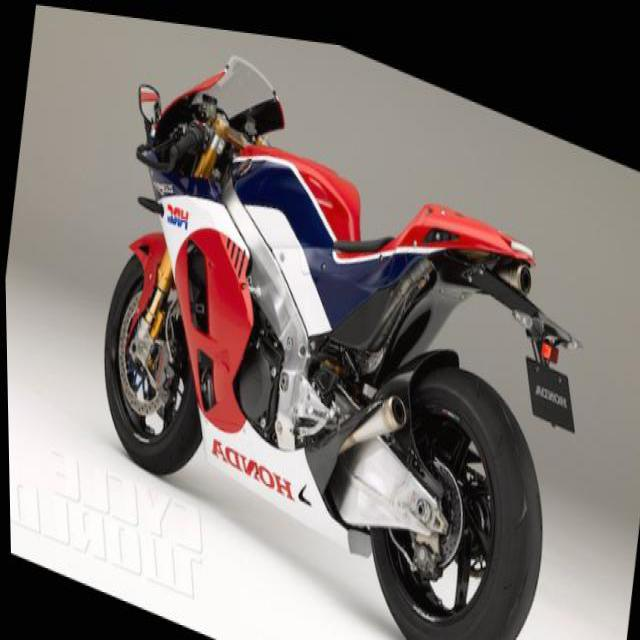HRC RCV 213: (73, 7, 612, 638)
